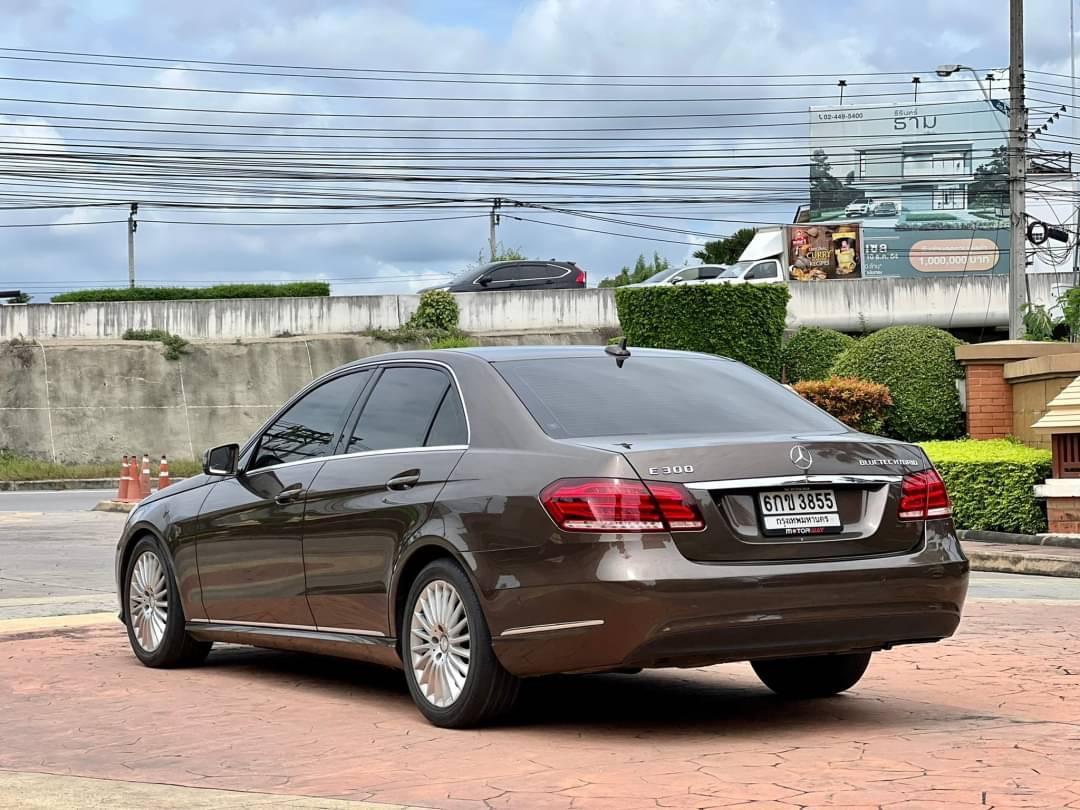license-plate: (754, 485, 847, 538)
